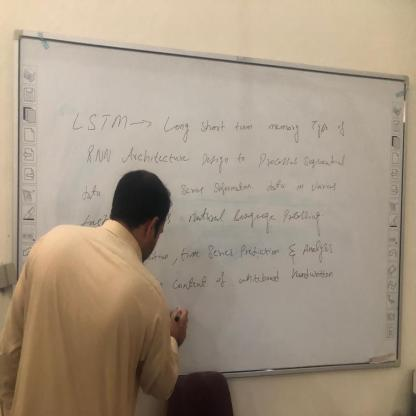Handwritten text: (57, 99, 353, 142), (81, 142, 356, 173), (167, 265, 354, 300), (174, 203, 343, 236), (177, 239, 345, 262), (177, 177, 351, 199)
Lecturer: (14, 165, 190, 416)
Whiteboard: (14, 36, 410, 394)
